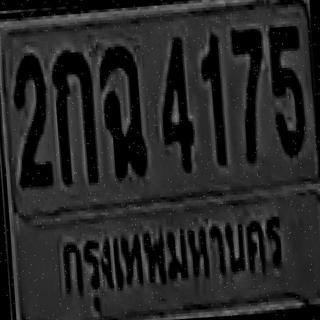A01: (50, 47, 98, 184)
A09: (95, 42, 146, 176)
N01: (198, 33, 226, 165)
N02: (9, 50, 52, 186)
N04: (155, 34, 195, 172)
N05: (268, 23, 306, 156)
N07: (230, 25, 268, 161)
P04: (55, 206, 289, 313)
